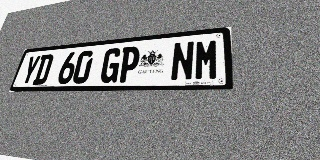0: (71, 50, 95, 84)
6: (56, 52, 79, 84)
D: (32, 54, 55, 85)
G: (99, 47, 123, 83)
M: (194, 38, 219, 81)
N: (170, 41, 195, 81)
P: (117, 46, 141, 83)
Y: (19, 55, 42, 85)
